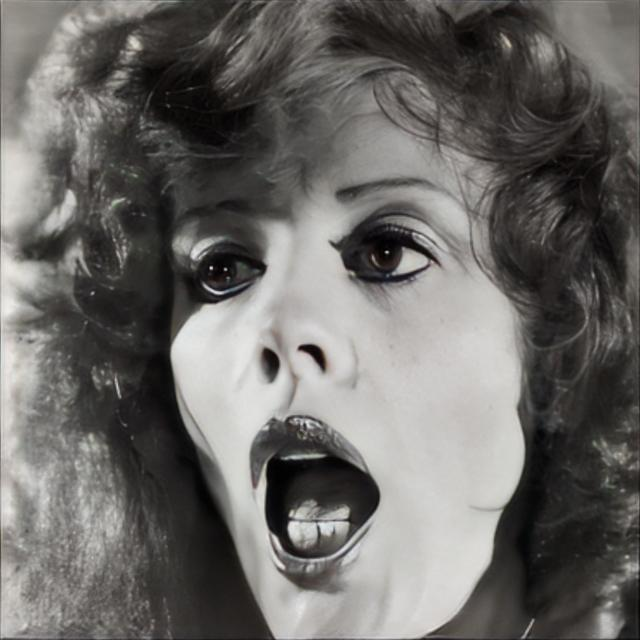surprise: (164, 41, 530, 640)
